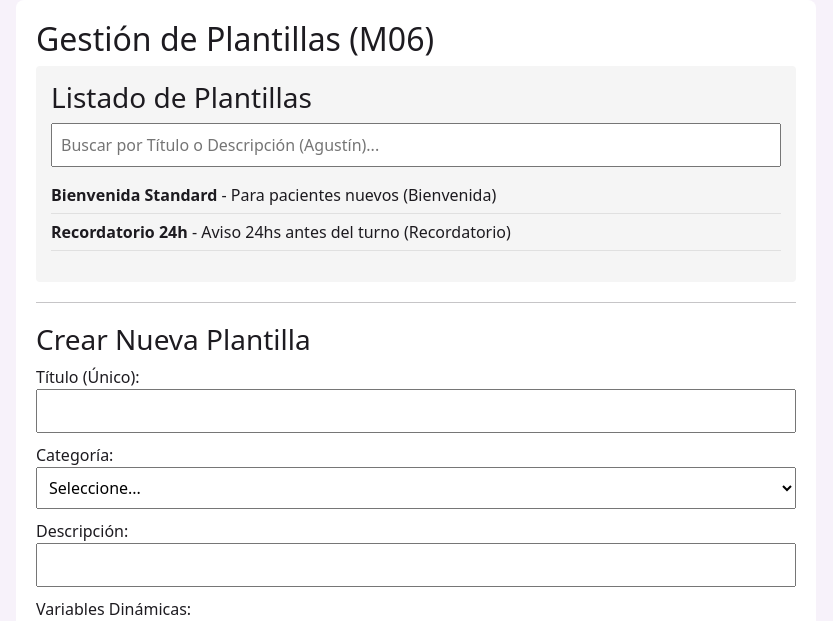
Scenario: AgendaYA - M06 Búsqueda dinámica de plantillas (Agustín Aguilera) › Escenario 2: Filtrado reactivo por coincidencia en la descripción
Check: the number of list items with test id "template-item" is 2, box 51,177 -> 781,214; 51,214 -> 781,251
Note: Escribir término que solo existe dentro del cuerpo descriptivo ("turno")
Type "turno" into the field with test id "search-template-input" at (416, 145), box 51,123 -> 781,167
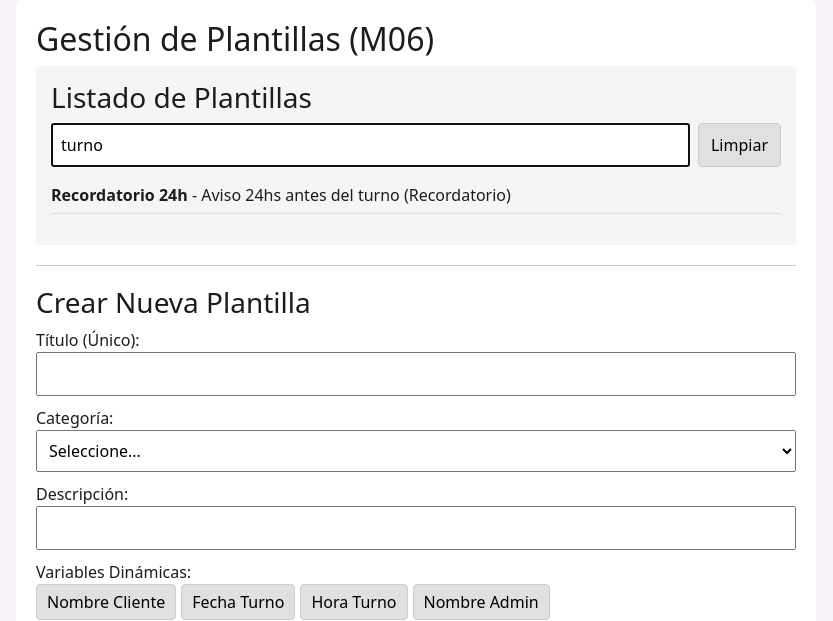
Check: the text with test id "template-item" reads "Recordatorio 24h", box 51,184 -> 188,206
Check: the number of list items with test id "template-item" is 1, box 51,177 -> 781,214
Check: the text "Bienvenida Standard" is gone
